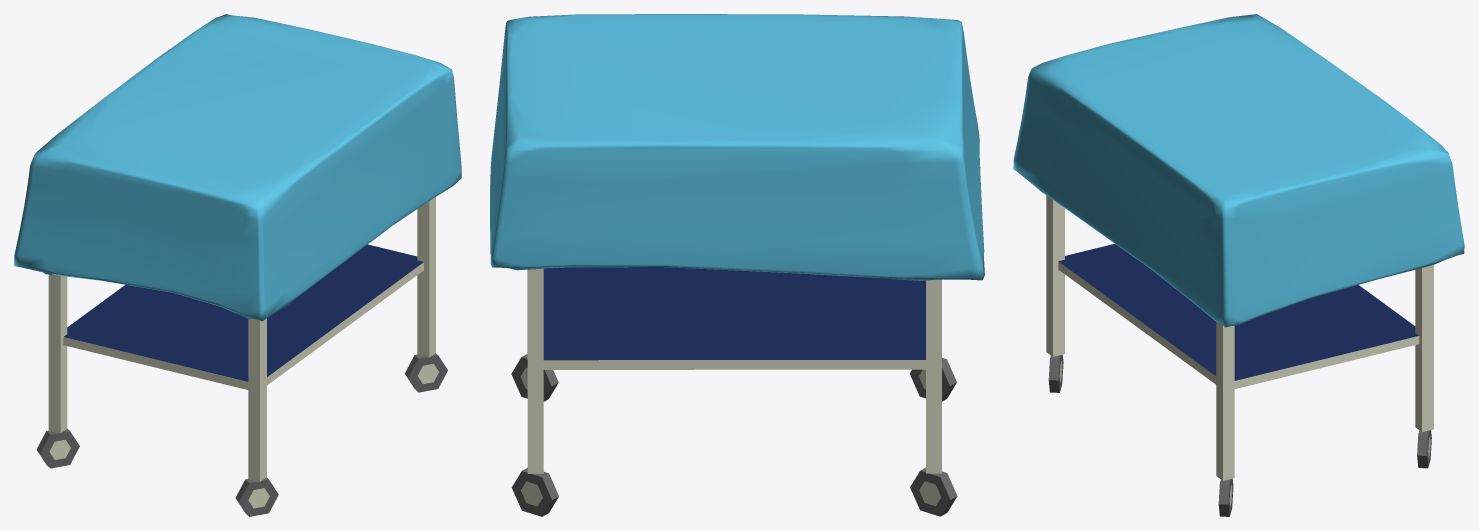
File: instrument02-table-hospital.fbx
The picture shows the model from 3 angles, left to right: view 1: azimuth 30°, elevation 25°; view 2: azimuth 150°, elevation 25°; view 3: azimuth 270°, elevation 25°; orthographic projection. The views are drawn at different scales.
Parts seen in each view (by area): view 1: instrument02-table-hospital; view 2: instrument02-table-hospital; view 3: instrument02-table-hospital.
Boxes of the visible parts, x1,y1,x2,y2 form: instrument02-table-hospital: [14, 14, 461, 516]; instrument02-table-hospital: [490, 14, 984, 516]; instrument02-table-hospital: [1013, 14, 1464, 516].
Size of the model in its own units: 201 by 143 by 182.
